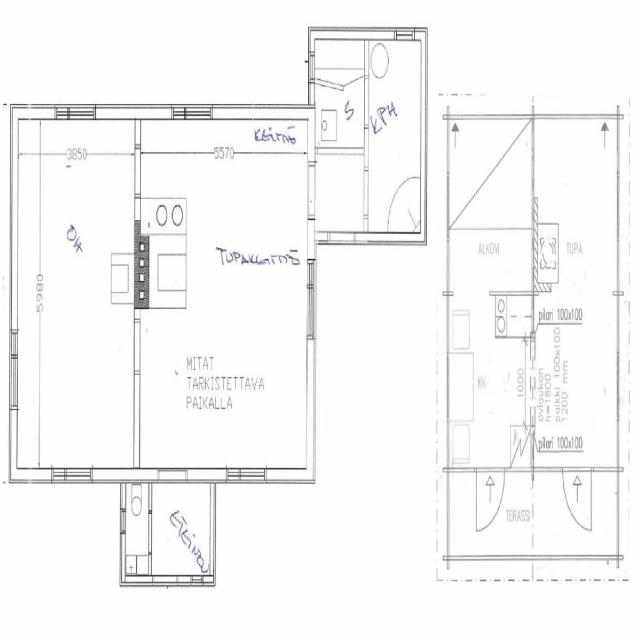door: (476, 467, 505, 528), (563, 467, 591, 528)
